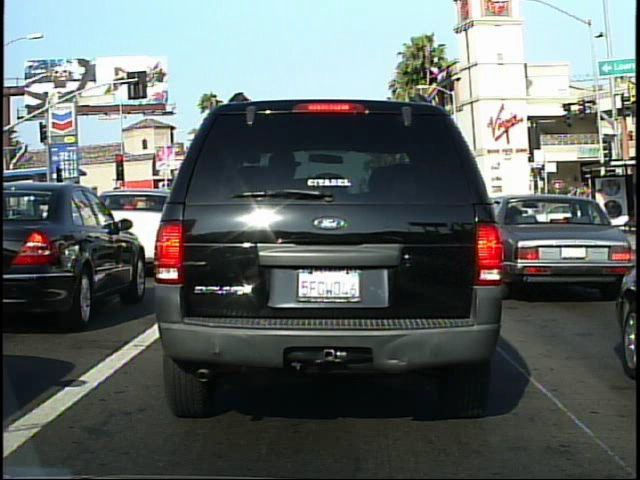person: (591, 184, 612, 243)
